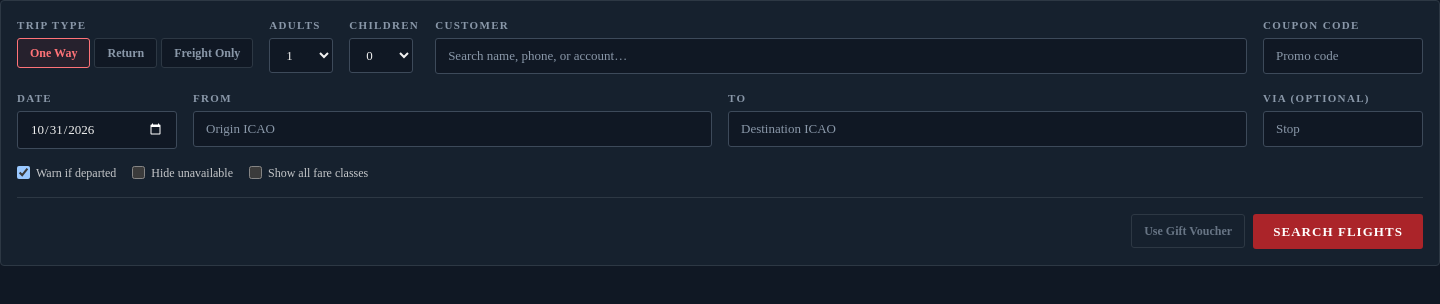
Scenario: NewBookingSearchForm — search behaviour › blocks a blank submit and names every missing field
Click the button "Search Flights" at (1338, 231), box [1253,214,1423,249]
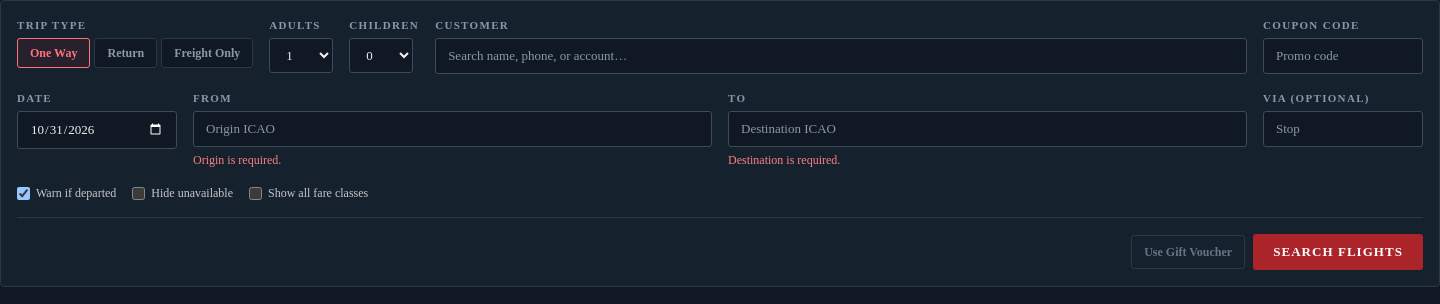
Expected: the text "Origin is required." is shown, [193,154,281,168]
Expected: the text "Destination is required." is shown, [728,154,840,168]
